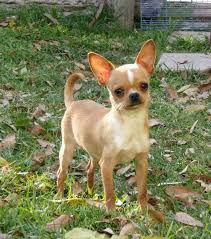chihuahua: (53, 33, 171, 212)
